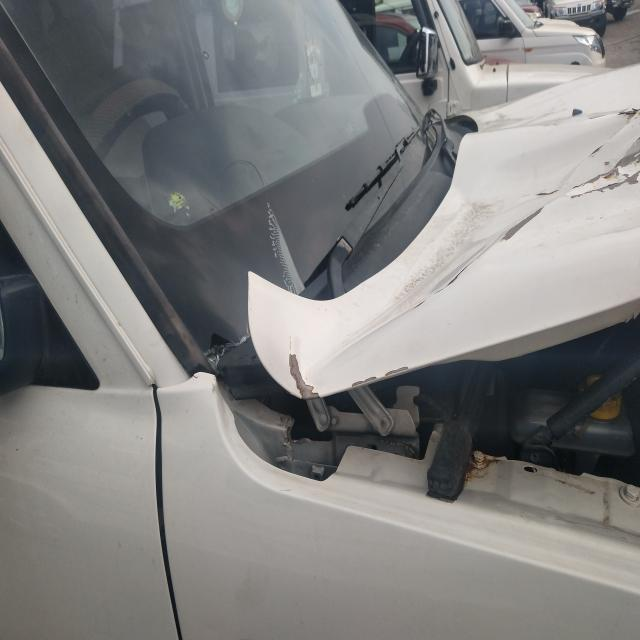damage: (372, 100, 640, 379), (464, 444, 640, 570), (284, 336, 407, 398), (230, 262, 279, 397), (261, 201, 312, 315), (283, 379, 295, 379)
